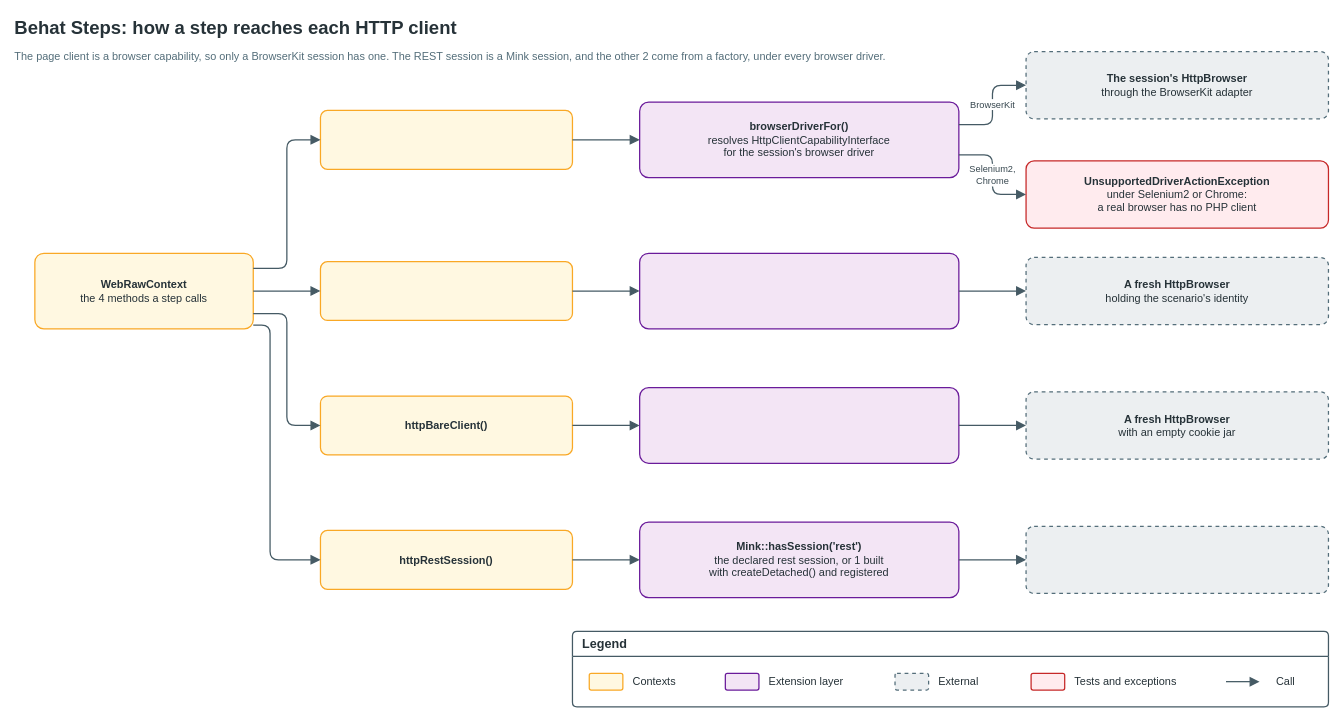
Some shapes in this 1343 by 722 pixel diagram are drawn without their labels. Here are the shapes that lost their labels. From the top down, the centre of each, then its label:
At point 446,139: "httpPageClient()".
At point 446,291: "httpDetachedClient()".
At point 799,290: "HttpClientFactoryInterface::createDetached() takes the scenario's HttpIdentity".
At point 799,425: "HttpClientFactoryInterface::createBare() takes the step's own options only".
At point 1177,559: "The rest Mink session a BrowserKit session beside the browser's, with no cookies".
